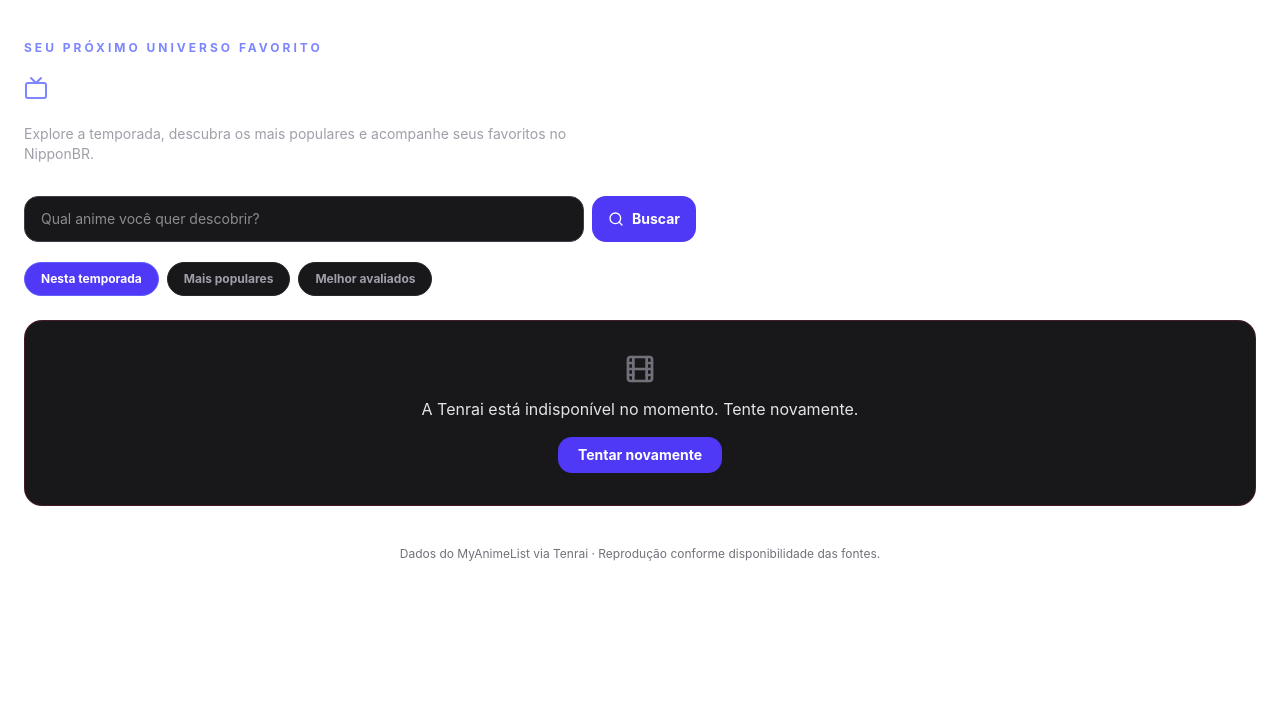
Test case: anime discovery and library › shows errors and allows retrying instead of inventing catalog entries
Expected: the message shows "A Tenrai está indisponível", [422,399,858,419]
Click the button "Tentar novamente" at (640, 455), box [558,437,722,473]
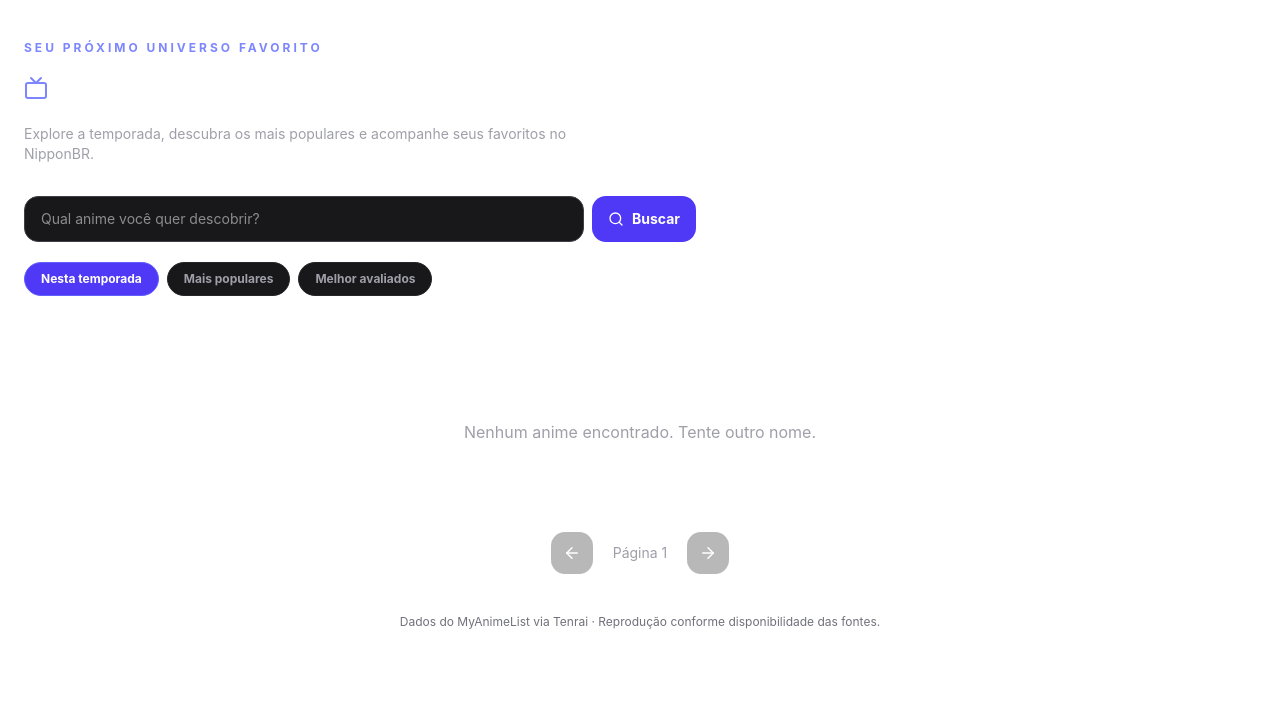
Now the text "Nenhum anime encontrado. Tente outro nome." is shown, box [464,422,816,442]
